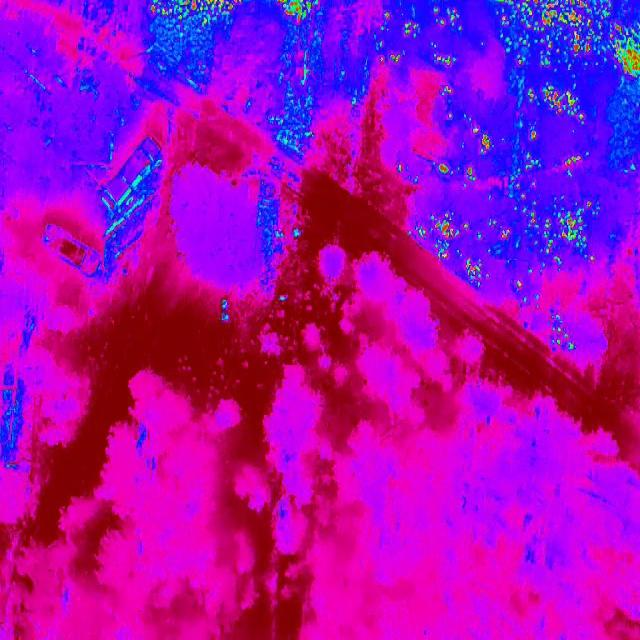fire: (409, 196, 603, 262), (494, 0, 640, 80), (144, 0, 248, 68), (276, 0, 319, 159), (378, 0, 472, 70), (520, 79, 584, 129), (472, 128, 494, 156), (432, 153, 453, 182)
